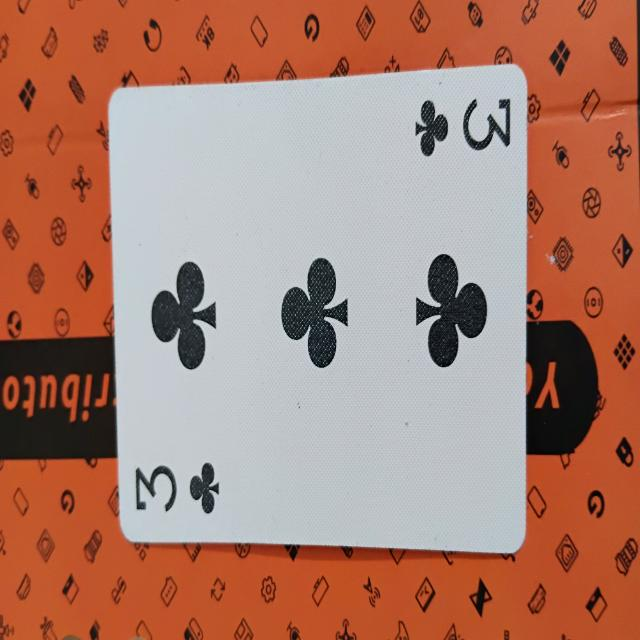3C: (107, 85, 525, 549)
